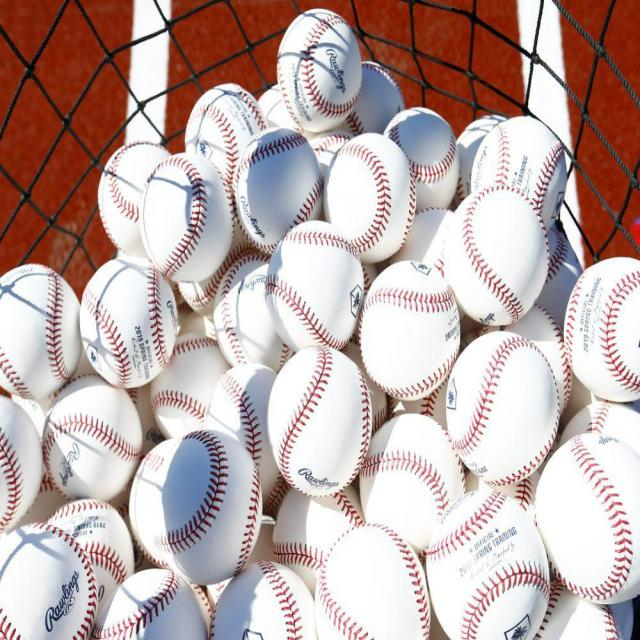baseball: (152, 428, 268, 582), (447, 331, 564, 480), (432, 493, 548, 637), (264, 347, 374, 496), (539, 434, 633, 602), (360, 260, 463, 398), (449, 186, 547, 329), (81, 256, 178, 386), (320, 521, 427, 636), (265, 221, 363, 346), (362, 412, 460, 534), (141, 156, 233, 284), (328, 134, 417, 266), (46, 379, 144, 494), (3, 521, 98, 636), (4, 262, 82, 399), (278, 8, 360, 131), (565, 254, 632, 400), (236, 130, 319, 243), (471, 114, 565, 210), (161, 328, 233, 430), (396, 105, 463, 200)
